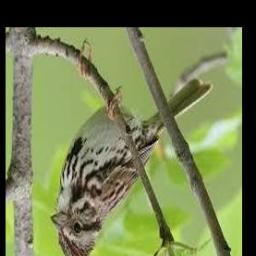Sparrow: (50, 41, 212, 256)
